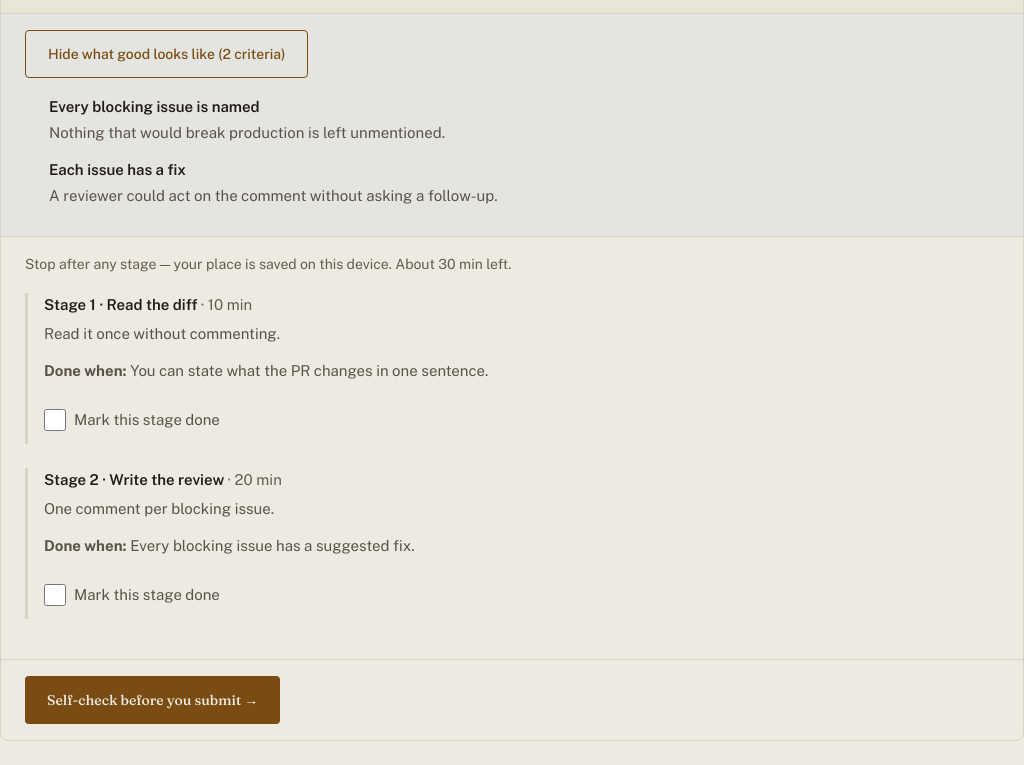
Scenario: LabBrief › names the criteria still to fix after a self-check
(page scrolled)
What coordinates should you click on to do the following:
click the button "Self-check before you submit →"
I would click on:
 (153, 700)
Its box is x1=25 y1=676 x2=280 y2=724.
(page scrolled)
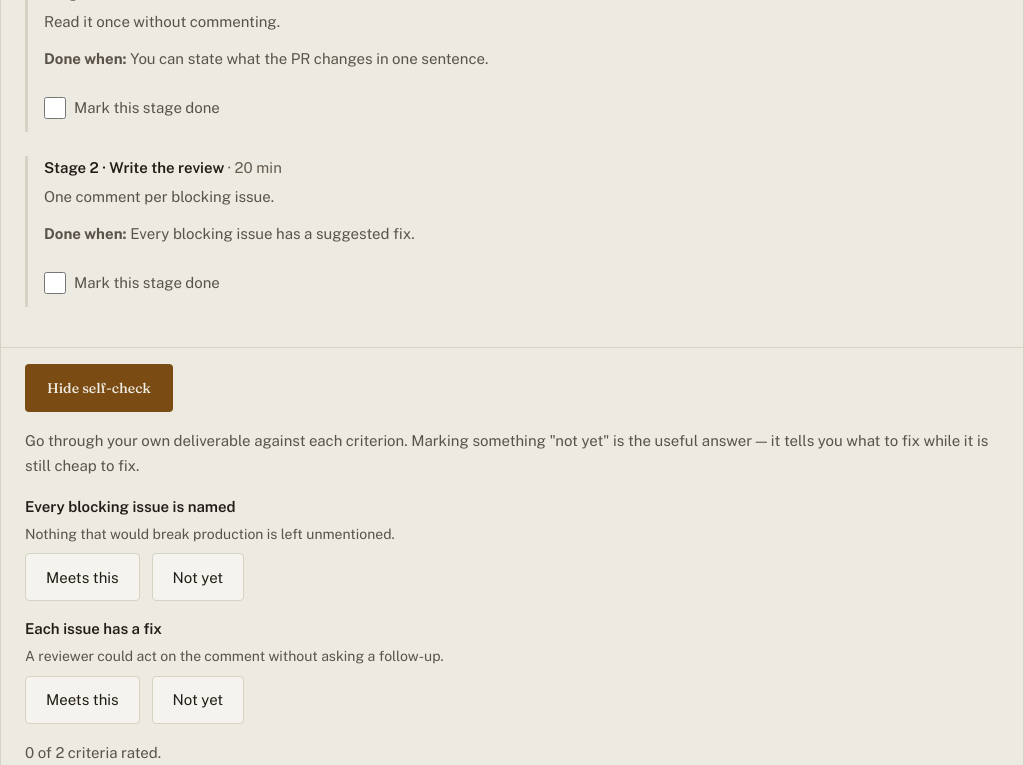
What coordinates should you click on to do the following:
click the 1st button "Meets this"
I would click on:
 (82, 577)
Its box is x1=25 y1=553 x2=140 y2=601.
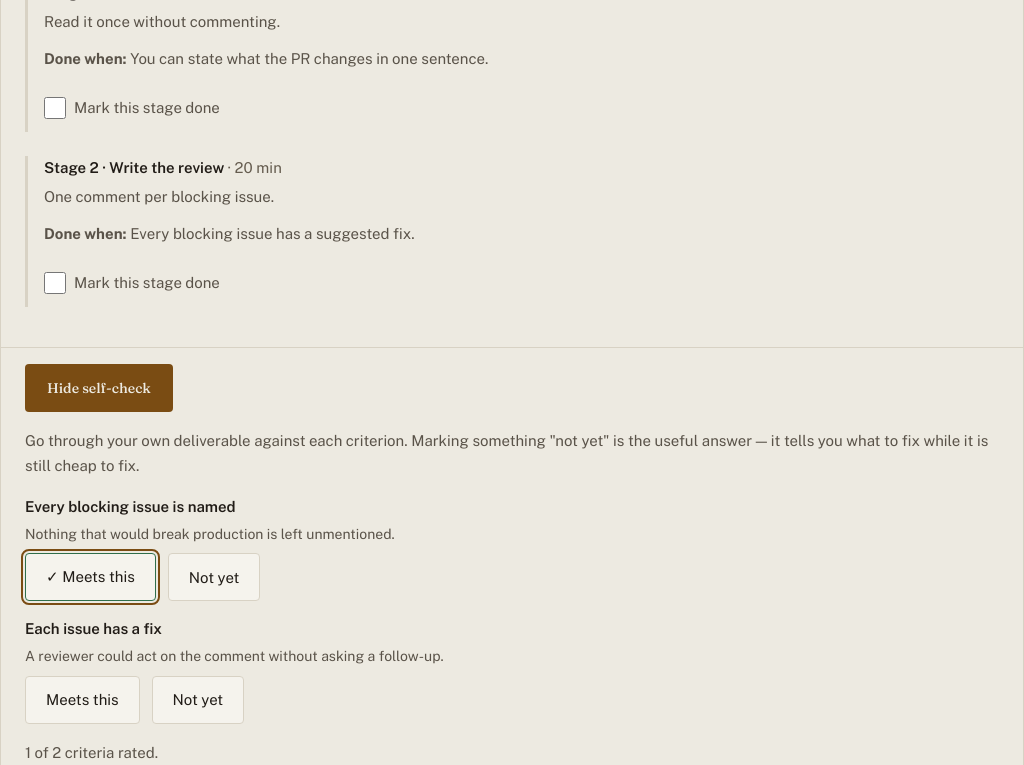
What coordinates should you click on to do the following:
click the 2nd button "Not yet"
I would click on:
 (198, 700)
Its box is x1=152 y1=676 x2=244 y2=724.
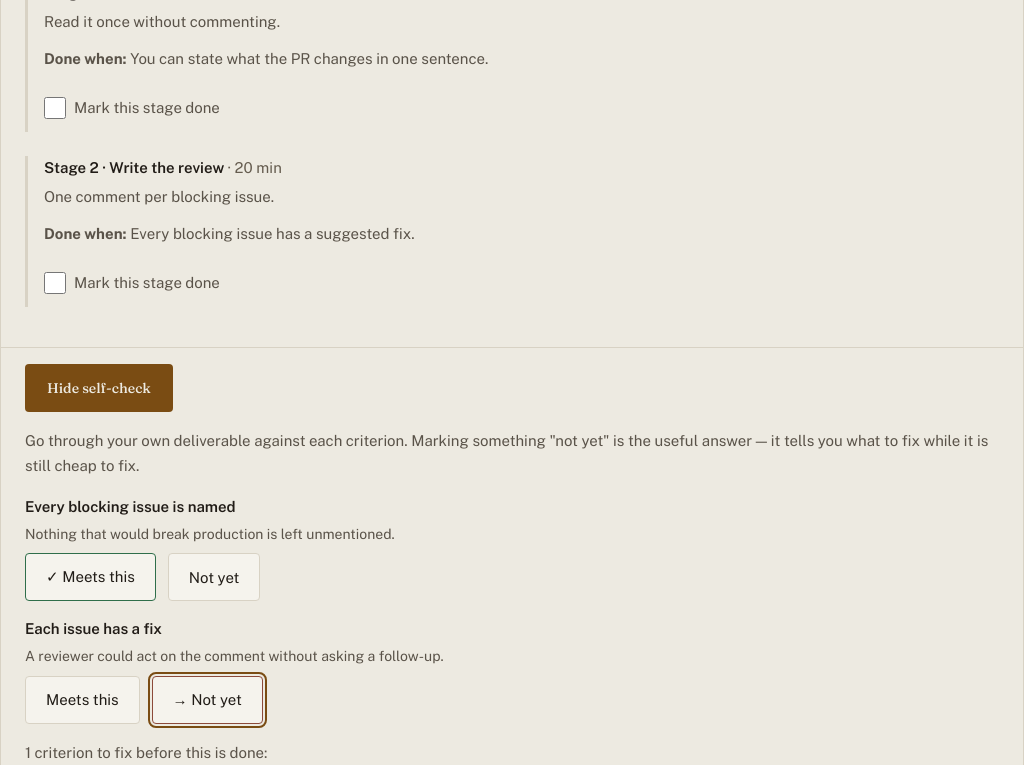
Expected: the text "1 criterion to fix before this is done:" is shown, x1=25 y1=744 x2=267 y2=761
